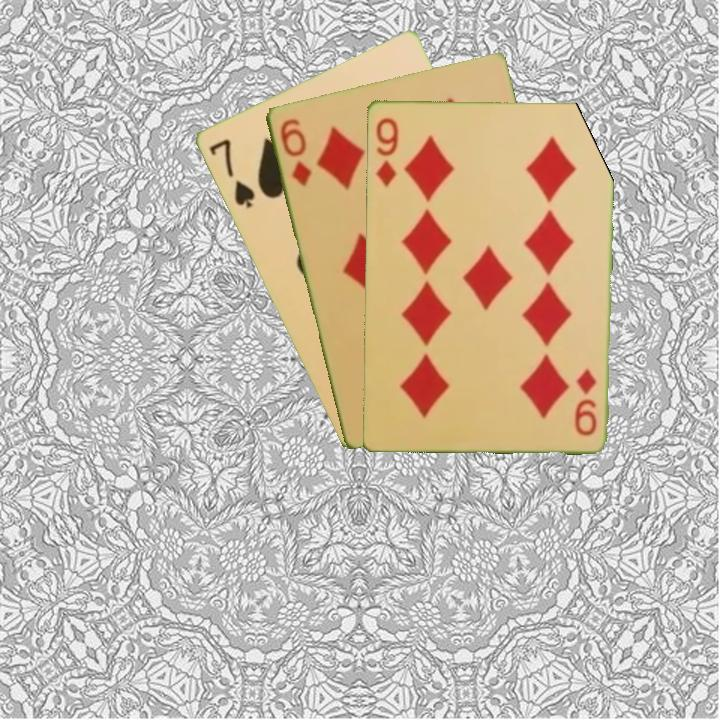6d: (276, 114, 314, 189)
7s: (205, 135, 258, 211)
9d: (372, 114, 400, 190), (571, 365, 599, 438)
